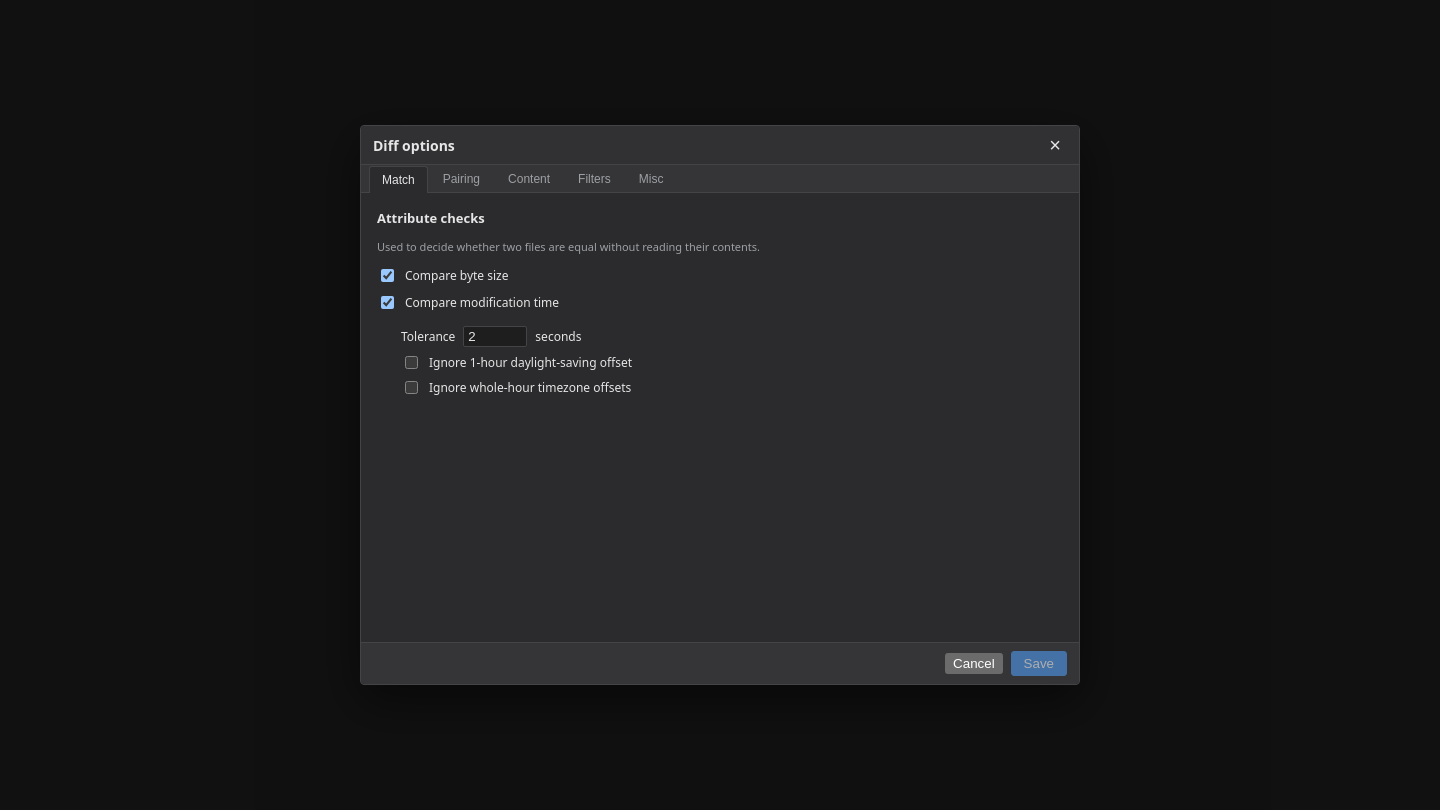
Test: <DiffOptionsDialog /> › Save is disabled until the draft differs from the current value
The width and height of the screenshot is (1440, 810).
Expected: the button "Save" is disabled, x1=1011 y1=651 x2=1067 y2=676
Click the checkbox labelled "Compare byte size" at (388, 276), box x1=381 y1=269 x2=394 y2=282
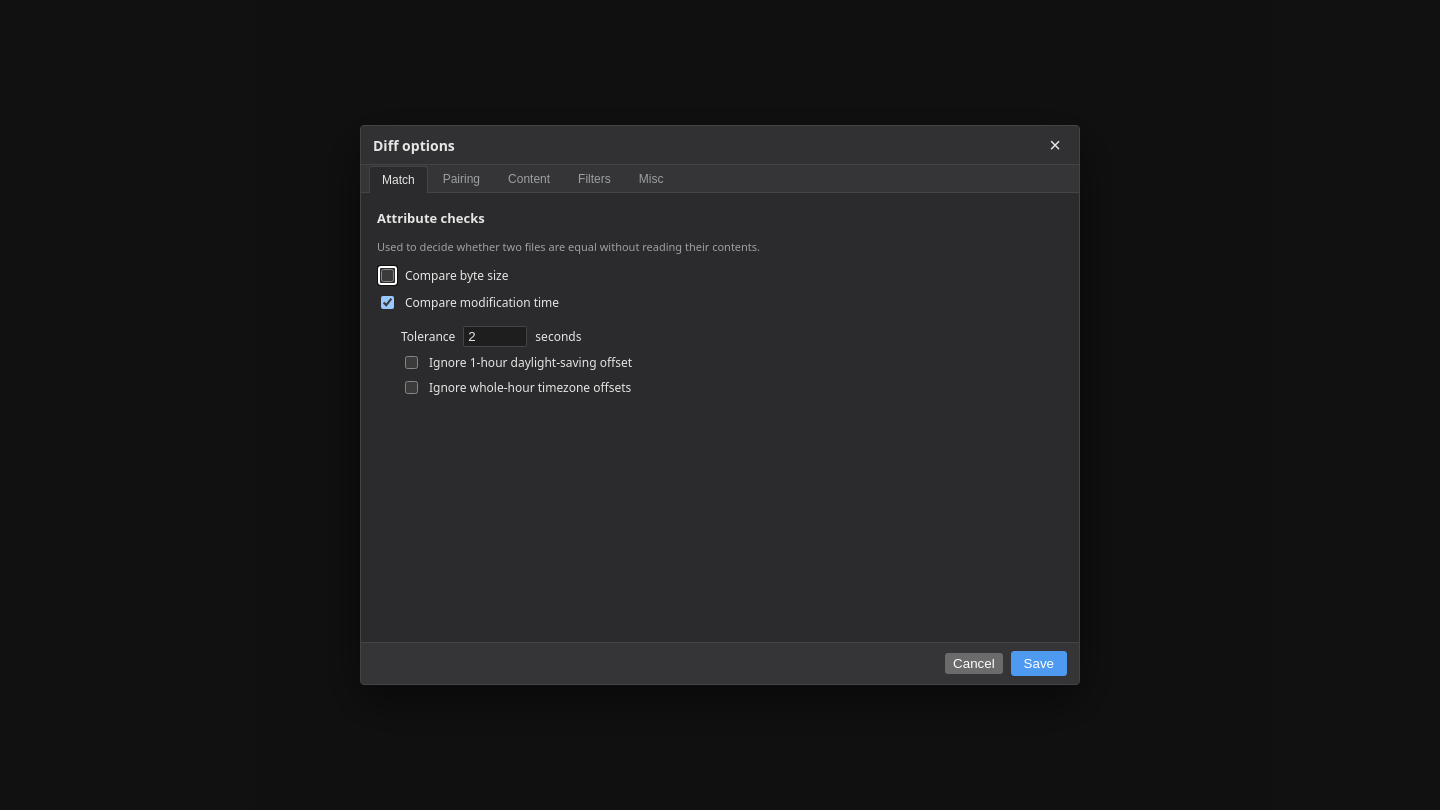
Result: the button "Save" is enabled at x1=1011 y1=651 x2=1067 y2=676
